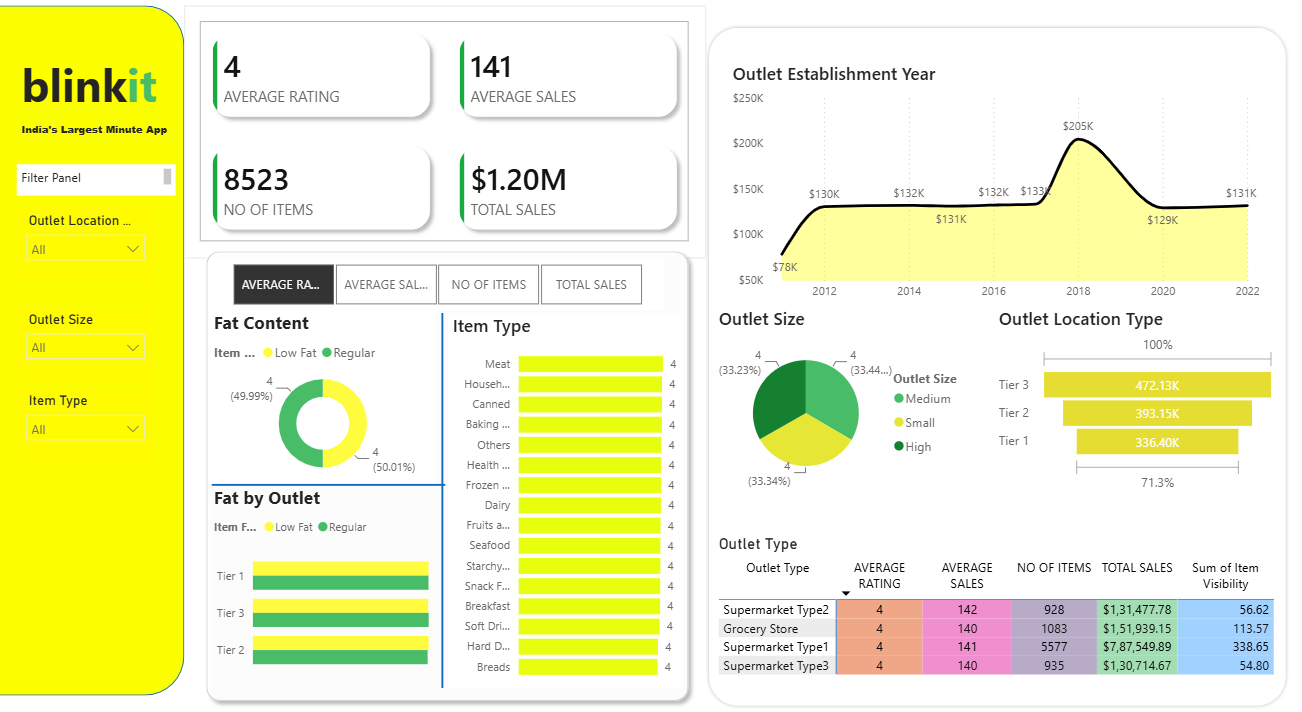

The dashboard page shown, as its layout file describes it:
{"tool":"powerbi","page":{"name":"Page 1","canvas":[1400,800],"ordinal":0},"visuals":[{"type":"shape","box":[0,29.5,199.7,740],"z":0},{"type":"textbox","box":[20.1,76.4,170.2,88.5],"z":1000},{"type":"textbox","box":[20.1,147.5,194.4,34.9],"z":2000},{"type":"cardVisual","fields":{"Data":["BlinkIT Grocery Data.AVERAGE RATING","BlinkIT Grocery Data.AVERAGE SALES","BlinkIT Grocery Data.NO OF ITEMS","BlinkIT Grocery Data.TOTAL SALES"]},"box":[199.7,29.5,559,270.8],"z":3000},{"type":"shape","box":[214.5,284.2,534.9,500],"z":4000},{"type":"donutChart","title":"Fat Content","fields":{"Y":["BlinkIT Grocery Data.AVERAGE RATING"],"Category":["BlinkIT Grocery Data.Item Fat Content"]},"box":[226.5,356.6,244,187.7],"z":5000},{"type":"clusteredBarChart","title":"Fat by Outlet ","fields":{"Y":["BlinkIT Grocery Data.AVERAGE RATING"],"Category":["BlinkIT Grocery Data.Outlet Location Type"],"Series":["BlinkIT Grocery Data.Item Fat Content"]},"box":[226.5,544.2,244,214.5],"z":6000},{"type":"shape","box":[229.2,530.8,250.7,25.5],"z":7000},{"type":"shape","box":[470.5,359.3,12.1,402.1],"z":8000},{"type":"shape","box":[758.7,49.6,626,734.6],"z":9000},{"type":"slicer","fields":{"Values":["Metric.Metric"]},"box":[226.5,300.3,487.9,56.3],"z":10000},{"type":"clusteredBarChart","title":" Item Type","fields":{"Y":["BlinkIT Grocery Data.AVERAGE RATING"],"Category":["BlinkIT Grocery Data.Item Type"]},"box":[482.6,359.3,250.7,402.1],"z":11000},{"type":"lineChart","title":"Outlet Establishment Year","fields":{"Y":["BlinkIT Grocery Data.TOTAL SALES"],"Category":["BlinkIT Grocery Data.Outlet Establishment Year"]},"box":[782.8,89.8,575.1,264.1],"z":12000},{"type":"pieChart","title":"Outlet Size","fields":{"Y":["BlinkIT Grocery Data.AVERAGE RATING"],"Category":["BlinkIT Grocery Data.Outlet Size"]},"box":[768.1,352.5,282.8,203.8],"z":13000},{"type":"funnel","title":"Outlet Location Type","fields":{"Category":["BlinkIT Grocery Data.Outlet Location Type","BlinkIT Grocery Data.Outlet Type"],"Y":["Sum(BlinkIT Grocery Data.Sales)"]},"box":[1068.4,352.5,307,203.8],"z":14000},{"type":"pivotTable","title":"Outlet Type","fields":{"Values":["BlinkIT Grocery Data.AVERAGE RATING","BlinkIT Grocery Data.AVERAGE SALES","BlinkIT Grocery Data.NO OF ITEMS","BlinkIT Grocery Data.TOTAL SALES","Sum(BlinkIT Grocery Data.Item Visibility)"],"Rows":["BlinkIT Grocery Data.Outlet Type"]},"box":[768.1,596.5,607.2,162.2],"z":15000},{"type":"slicer","fields":{"Values":["BlinkIT Grocery Data.Outlet Location Type"]},"box":[20.1,246.7,147.5,81.8],"z":16000},{"type":"slicer","fields":{"Values":["BlinkIT Grocery Data.Outlet Size"]},"box":[20.1,352.5,147.5,81.8],"z":17000},{"type":"slicer","fields":{"Values":["BlinkIT Grocery Data.Item Type"]},"box":[20.1,439.7,147.5,81.8],"z":18000},{"type":"textbox","box":[20.1,199.7,170.2,33.5],"z":19000}]}

Visuals, with their boxes on the page's 1400x800 design canvas (x1, y1, x2, y2). These are canvas units, not pixel positions in the 1302x712 screenshot, which may show the page scaled, cropped or inside an application window:
shape: locate(0, 30, 200, 770)
textbox: locate(20, 76, 190, 165)
textbox: locate(20, 148, 214, 182)
cardVisual - BlinkIT Grocery Data.AVERAGE RATING x BlinkIT Grocery Data.AVERAGE SALES: locate(200, 30, 759, 300)
shape: locate(214, 284, 749, 784)
"Fat Content" donutChart: locate(226, 357, 470, 544)
"Fat by Outlet " clusteredBarChart: locate(226, 544, 470, 759)
shape: locate(229, 531, 480, 556)
shape: locate(470, 359, 483, 761)
shape: locate(759, 50, 1385, 784)
slicer - Metric.Metric: locate(226, 300, 714, 357)
" Item Type" clusteredBarChart: locate(483, 359, 733, 761)
"Outlet Establishment Year" lineChart: locate(783, 90, 1358, 354)
"Outlet Size" pieChart: locate(768, 352, 1051, 556)
"Outlet Location Type" funnel: locate(1068, 352, 1375, 556)
"Outlet Type" pivotTable: locate(768, 596, 1375, 759)
slicer - BlinkIT Grocery Data.Outlet Location Type: locate(20, 247, 168, 328)
slicer - BlinkIT Grocery Data.Outlet Size: locate(20, 352, 168, 434)
slicer - BlinkIT Grocery Data.Item Type: locate(20, 440, 168, 522)
textbox: locate(20, 200, 190, 233)
